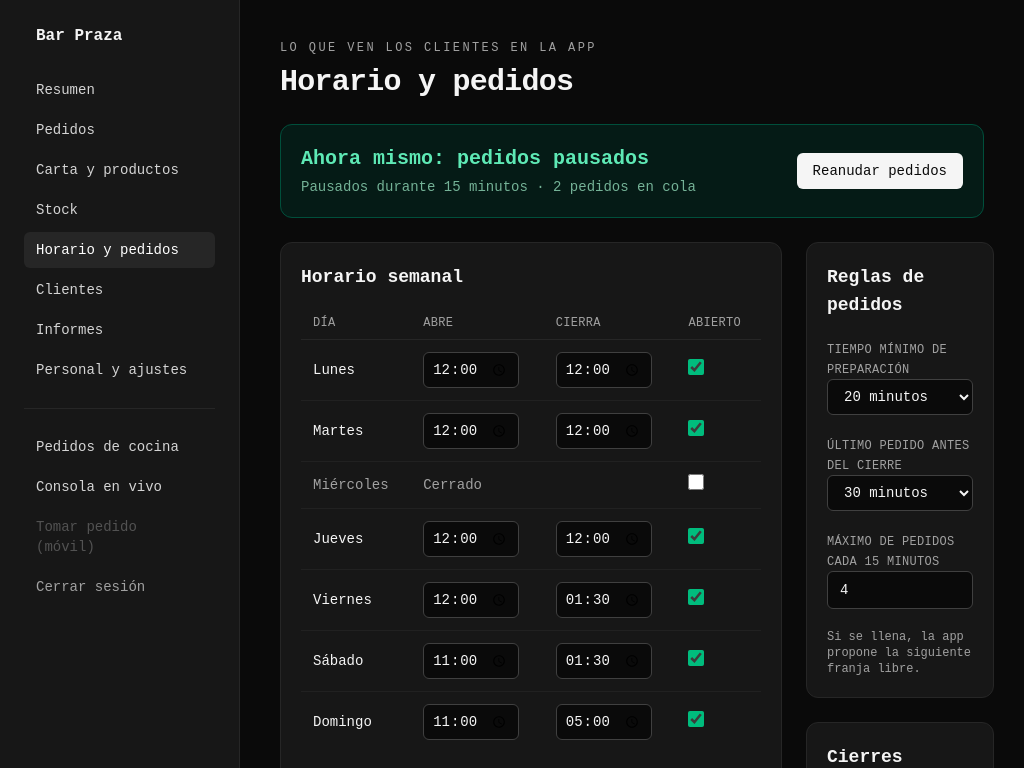
Test: SchedulePage edge cases › tells the user when resuming fails
Click the button "Reanudar pedidos" at {"x": 880, "y": 171}, box [797, 153, 963, 189]
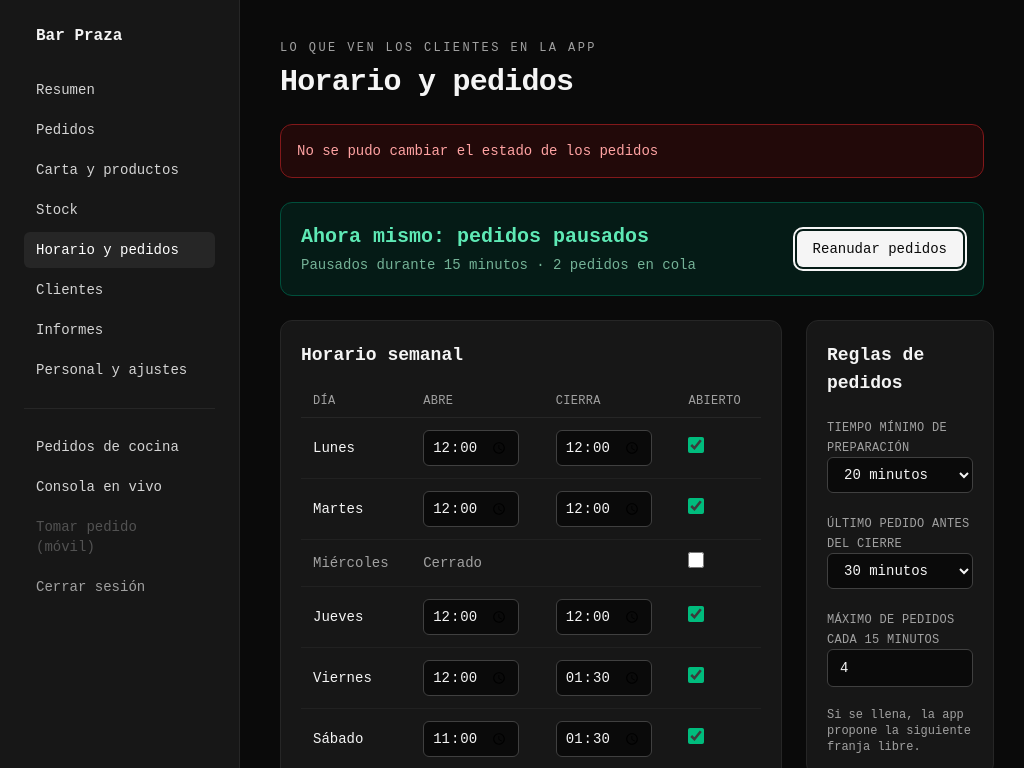
Result: the message reads "No se pudo cambiar el estado de los pedidos" at [297, 143, 658, 159]
